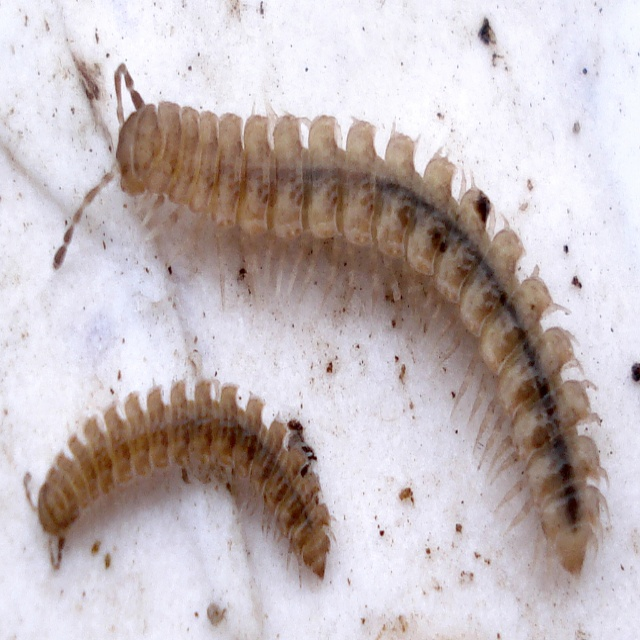Centipede: (51, 60, 610, 575), (22, 359, 338, 578)
